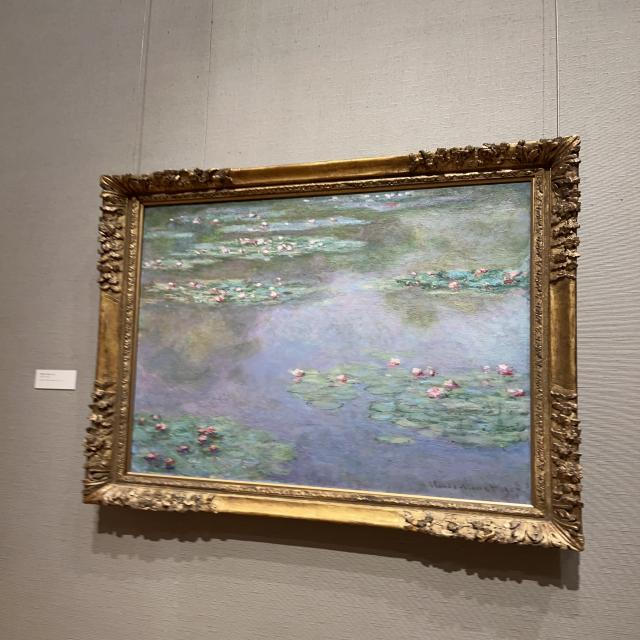lilies: (131, 181, 531, 503)
